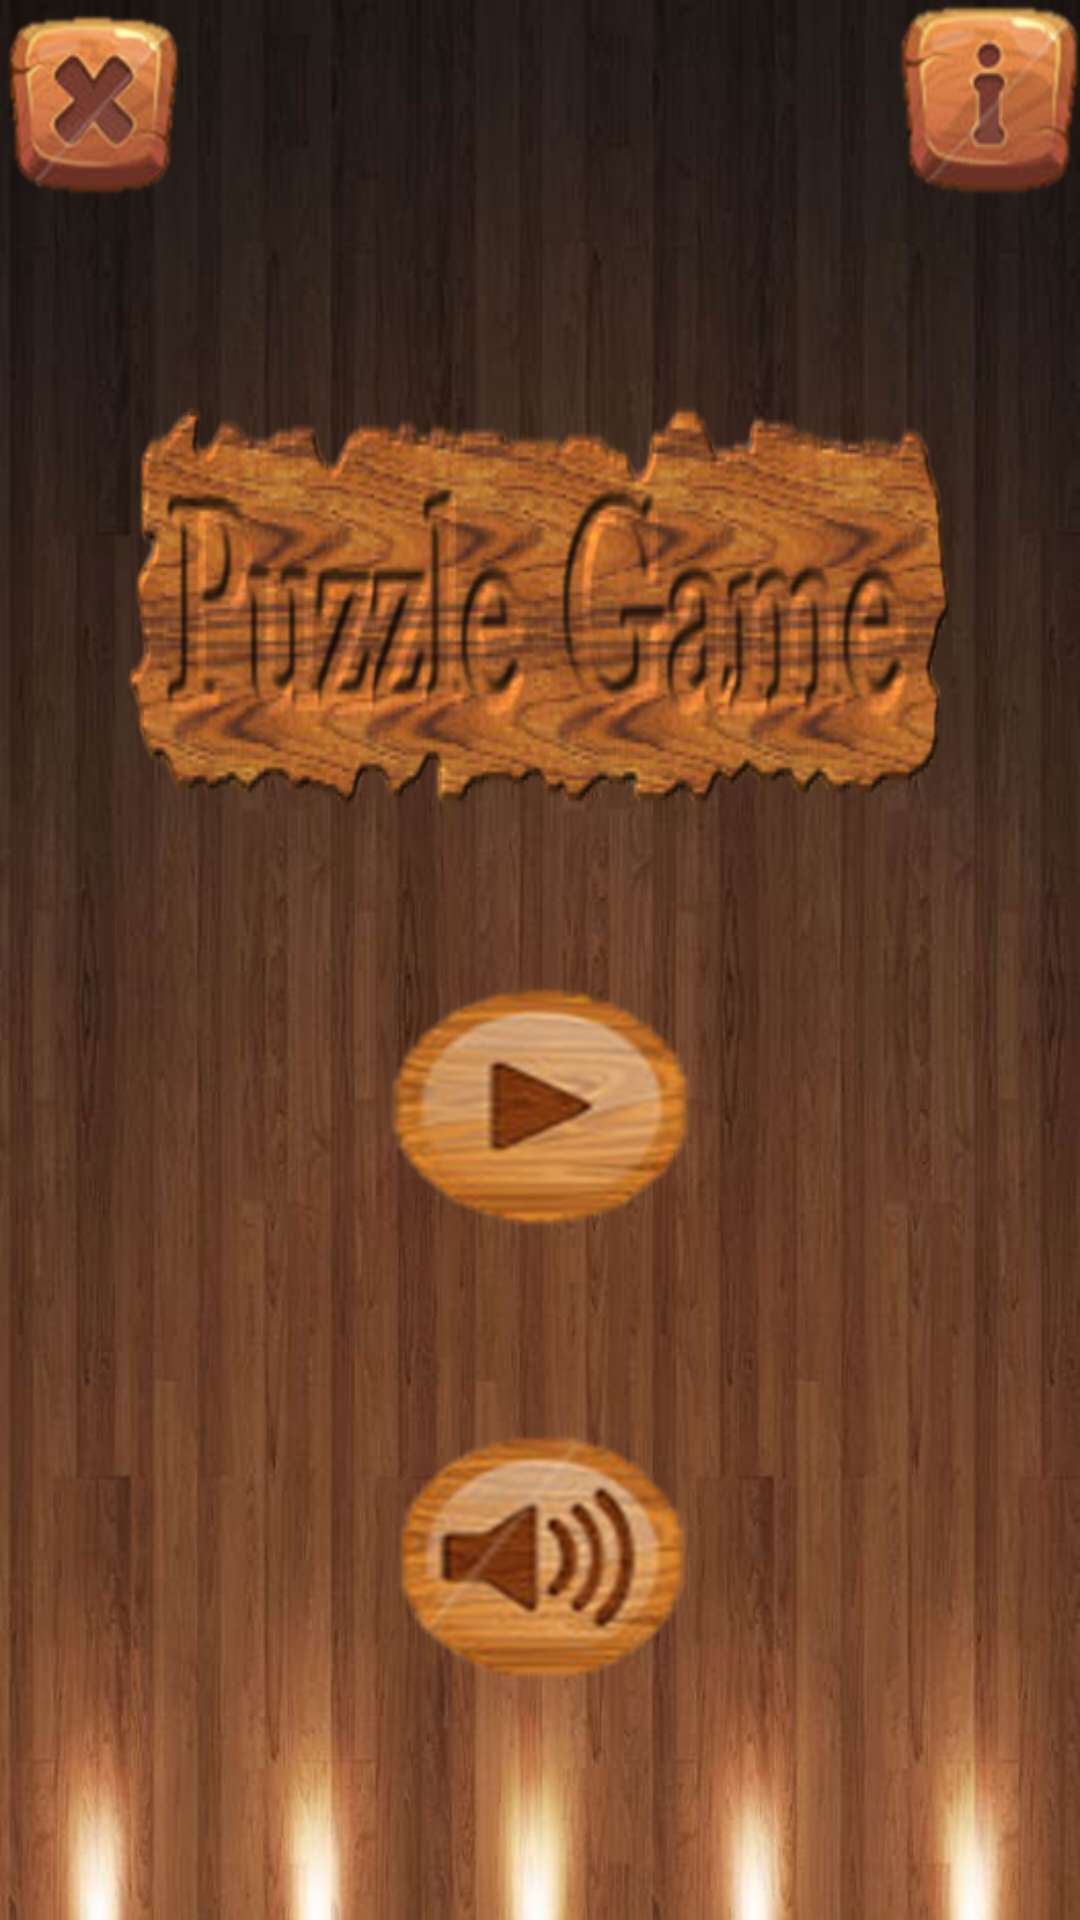

Point at icon controls on the screen. Image size 1080×1920, points as [x,y].
apropos: [989,99]
exit: [94,104]
startt: [548,1105]
volume: [542,1552]
